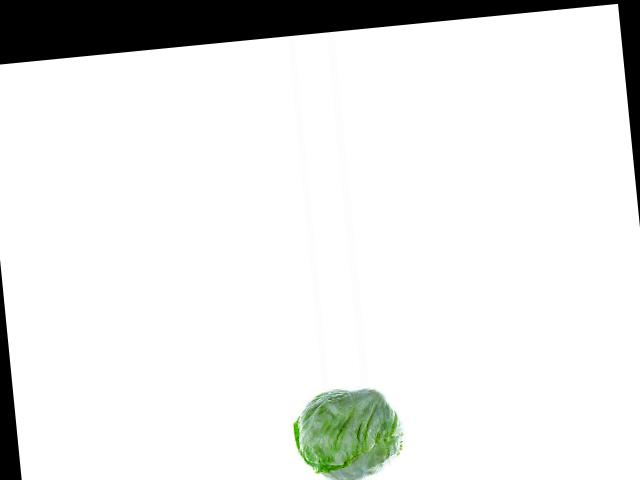lettuce: (292, 388, 406, 480)
